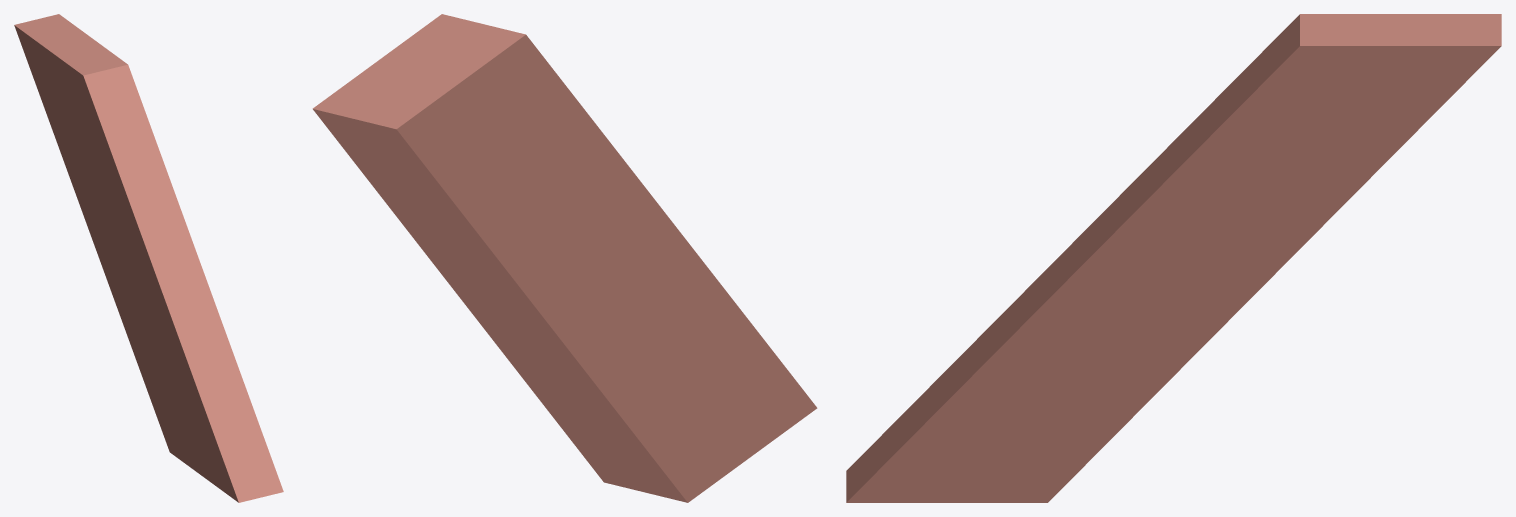
The model's file is BasicSupport03Middle02.fbx.
3 views of the same model, side by side, from view 1: azimuth 30°, elevation 25°; view 2: azimuth 150°, elevation 25°; view 3: azimuth 270°, elevation 25° (orthographic). The views are drawn at different scales.
Visible parts, largest first — view 1: BasicSupport03Middle02.004; view 2: BasicSupport03Middle02.004; view 3: BasicSupport03Middle02.004.
Part boxes in pixels (x1,y1,x2,y2): BasicSupport03Middle02.004: [14, 14, 283, 502]; BasicSupport03Middle02.004: [312, 14, 817, 502]; BasicSupport03Middle02.004: [846, 14, 1501, 502].
Bounding box in the file's own units: 75 × 500 × 650.
